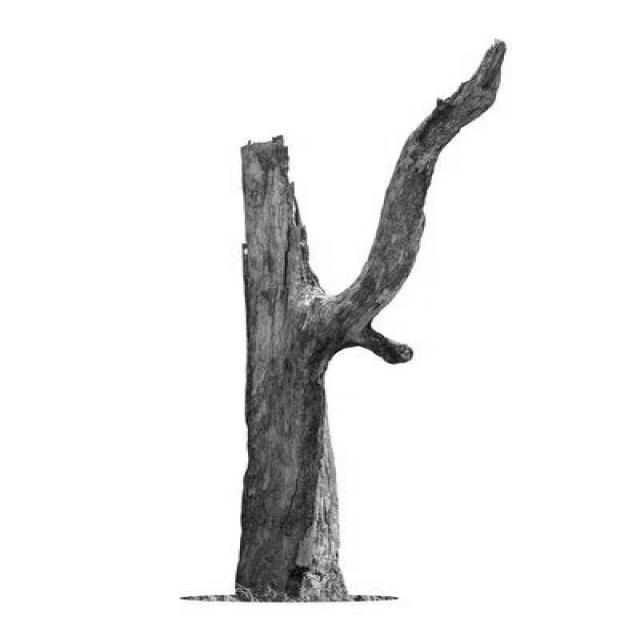Tree: (184, 41, 507, 603)
